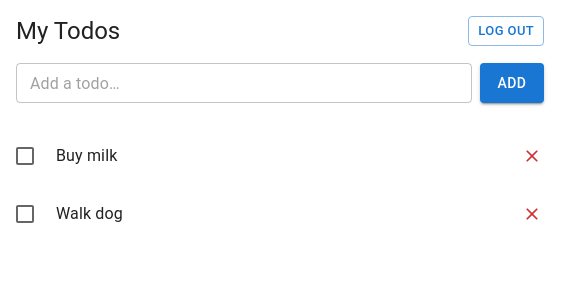
Test: TodoList › shows an error banner when adding a todo fails
This screenshot has width=567, height=304.
expect the text "Buy milk" is shown: met, box [56,146,118,165]
Type "Read book" into the field with placeholder "Add a todo…" at (244, 83), box [16,63,472,103]
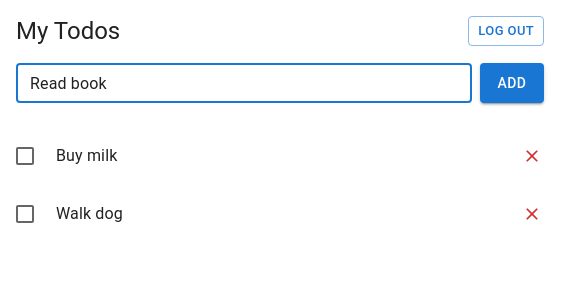
Click the button "Add" at (512, 83), box [480,63,544,103]
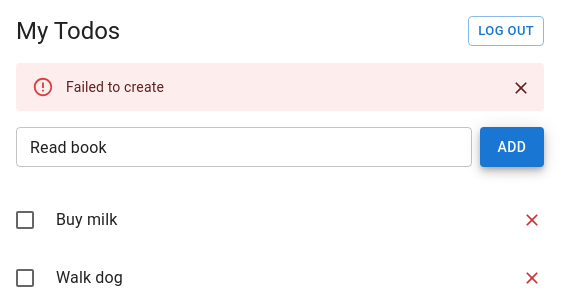
expect the text "Failed to create" is shown: met, box [66,79,164,95]
